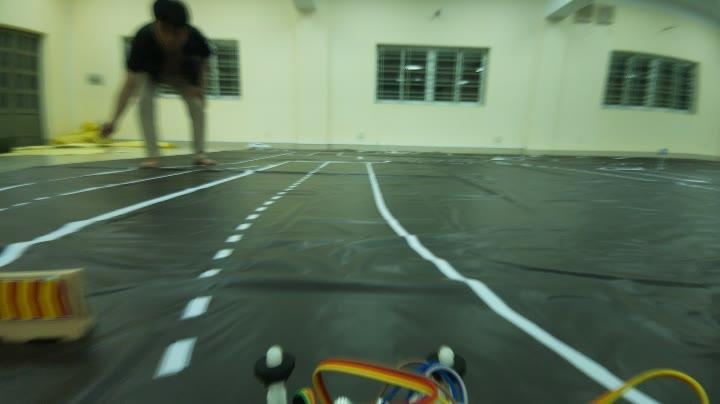roadblock: (0, 270, 94, 348)
